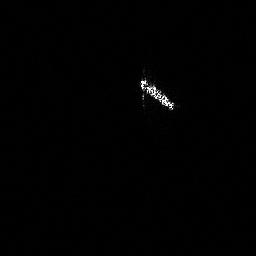ship: (136, 74, 179, 113)
